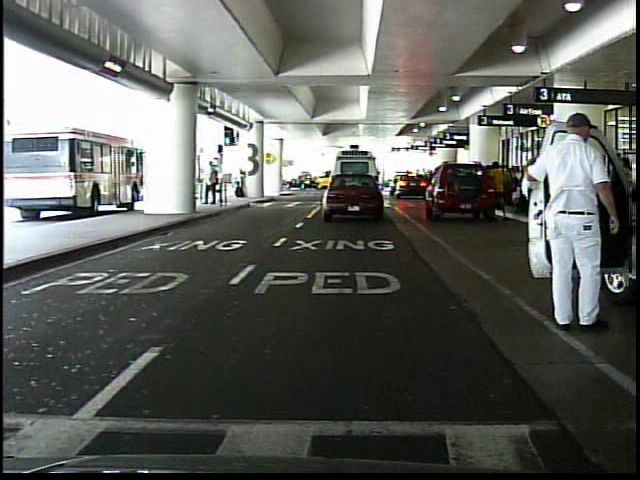person: (523, 109, 620, 336), (572, 149, 602, 224), (492, 155, 511, 223), (203, 155, 220, 208), (234, 165, 251, 201)
